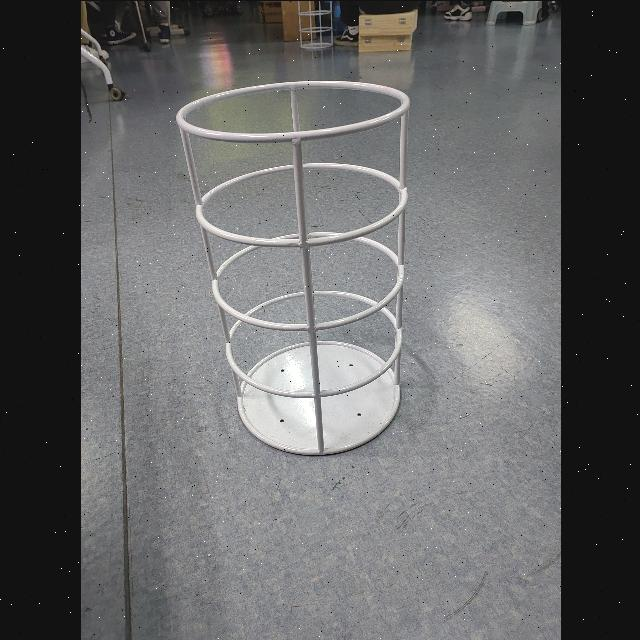S: (170, 74, 416, 462)
